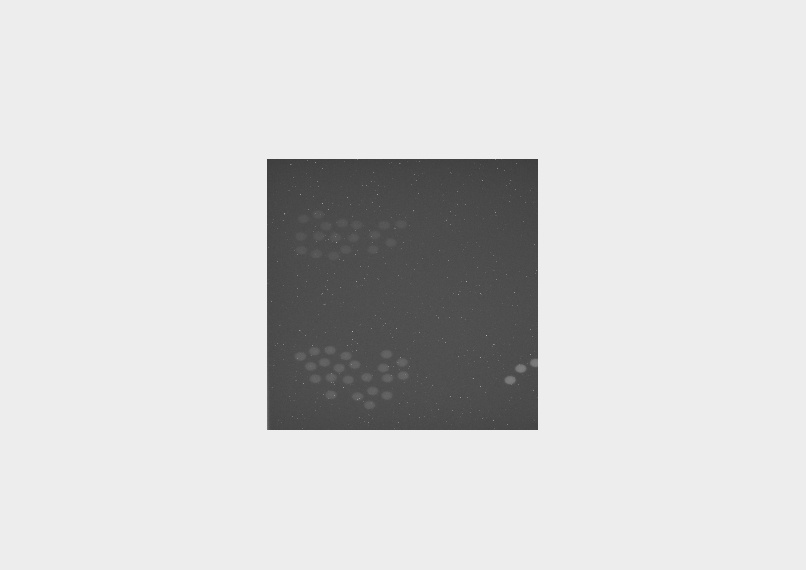cluster: (293, 345, 409, 411), (295, 209, 407, 261), (503, 358, 538, 386)
